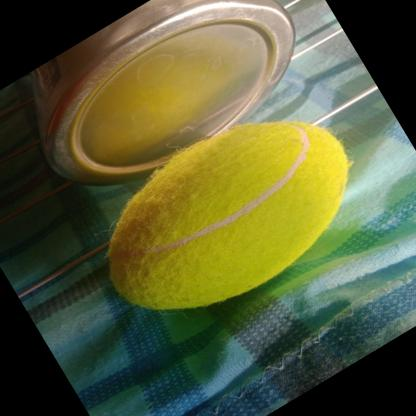Tennis: (62, 72, 392, 358)
